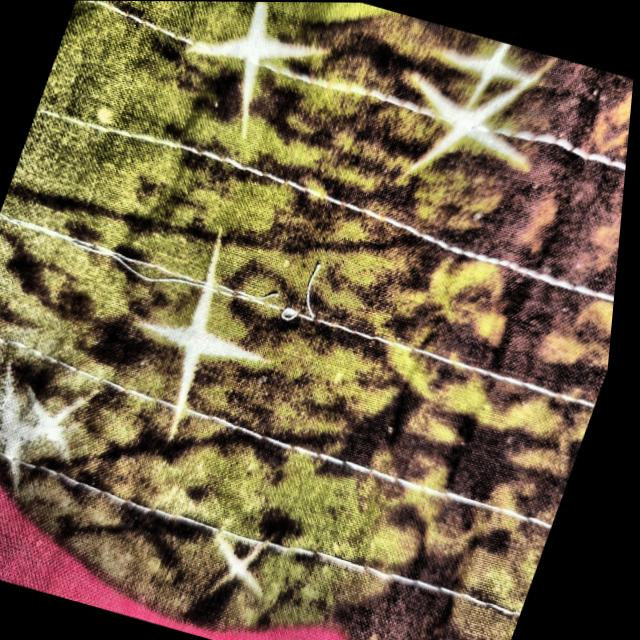Stitch: (232, 234, 360, 348)
